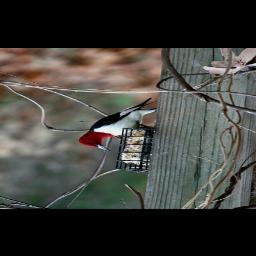Woodpecker: (71, 96, 166, 153)
